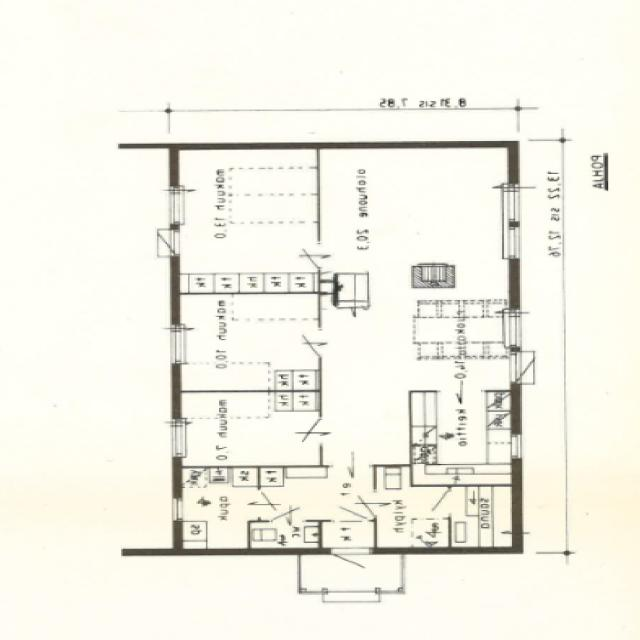door: (332, 548, 372, 585), (510, 354, 560, 382), (278, 327, 323, 357), (331, 490, 371, 522), (280, 417, 323, 445), (337, 489, 378, 517), (281, 241, 323, 268), (257, 489, 297, 516), (271, 493, 306, 522), (414, 490, 452, 516), (137, 231, 178, 254)
